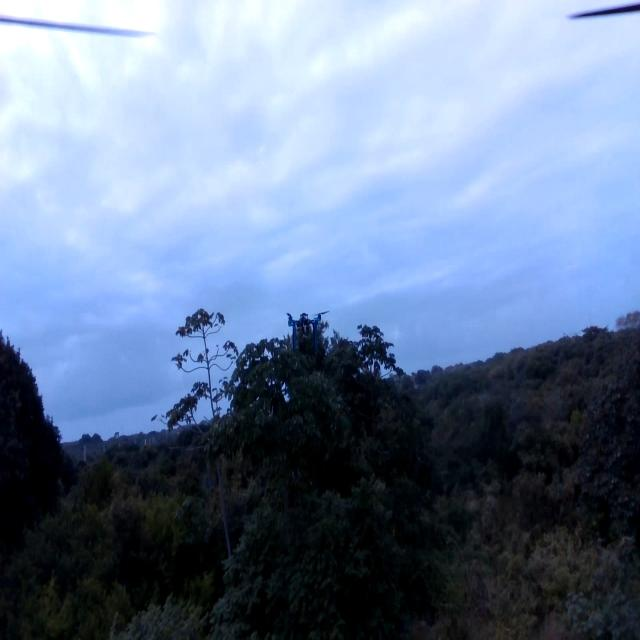-uav-: (282, 299, 332, 346)
